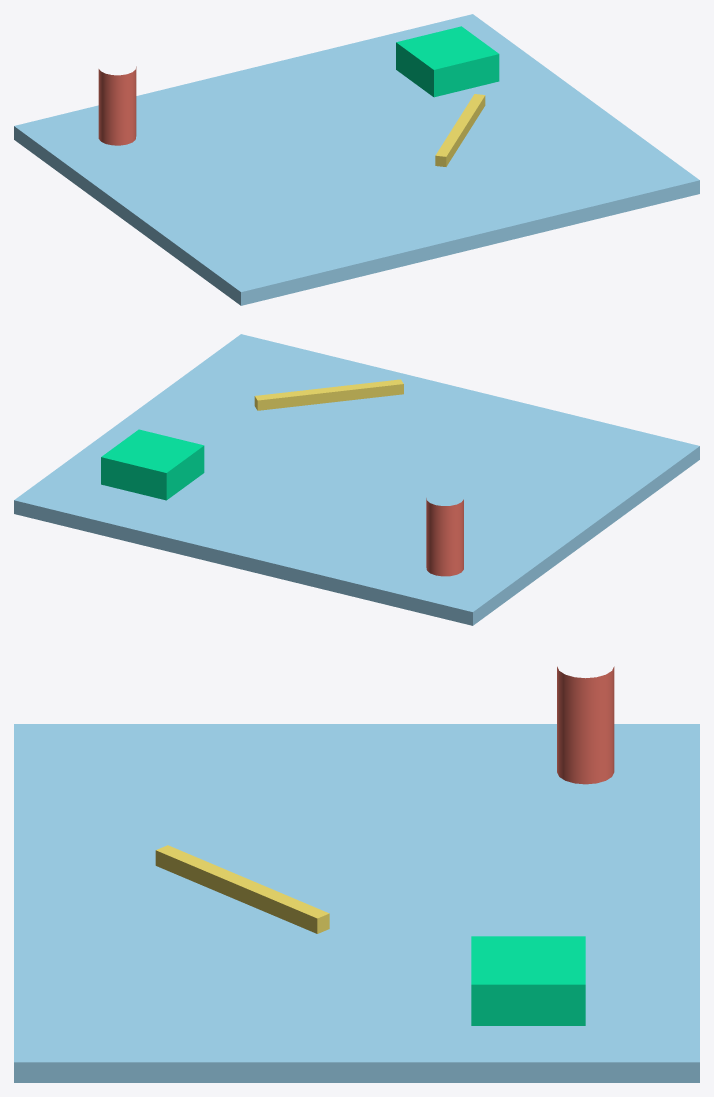
File: theodolite_traverse_bowditch_rule.glb
The picture shows the model from 3 angles, top to bottom: view 1: azimuth 30°, elevation 25°; view 2: azimuth 150°, elevation 25°; view 3: azimuth 270°, elevation 25°; orthographic projection. The views are drawn at different scales.
Visible parts, largest first — view 1: ClosedTraversePolygonFrame, ClosingErrorDiscrepancyBox, TraverseStationHubPegs, BowditchCorrectionVectorArrow; view 2: ClosedTraversePolygonFrame, ClosingErrorDiscrepancyBox, TraverseStationHubPegs, BowditchCorrectionVectorArrow; view 3: ClosedTraversePolygonFrame, ClosingErrorDiscrepancyBox, TraverseStationHubPegs, BowditchCorrectionVectorArrow.
Part boxes in pixels (x1=…): ClosedTraversePolygonFrame: x1=14, y1=14, x2=699, y2=305; ClosingErrorDiscrepancyBox: x1=396, y1=26, x2=499, y2=97; TraverseStationHubPegs: x1=98, y1=66, x2=136, y2=145; BowditchCorrectionVectorArrow: x1=435, y1=94, x2=485, y2=166; ClosedTraversePolygonFrame: x1=14, y1=334, x2=699, y2=625; ClosingErrorDiscrepancyBox: x1=101, y1=429, x2=204, y2=500; TraverseStationHubPegs: x1=426, y1=498, x2=463, y2=576; BowditchCorrectionVectorArrow: x1=254, y1=379, x2=403, y2=410; ClosedTraversePolygonFrame: x1=14, y1=724, x2=699, y2=1082; ClosingErrorDiscrepancyBox: x1=471, y1=936, x2=585, y2=1025; TraverseStationHubPegs: x1=557, y1=666, x2=614, y2=784; BowditchCorrectionVectorArrow: x1=155, y1=845, x2=329, y2=933.
Bounding box in the file's own units: 1.4 × 0.25 × 1.2.
